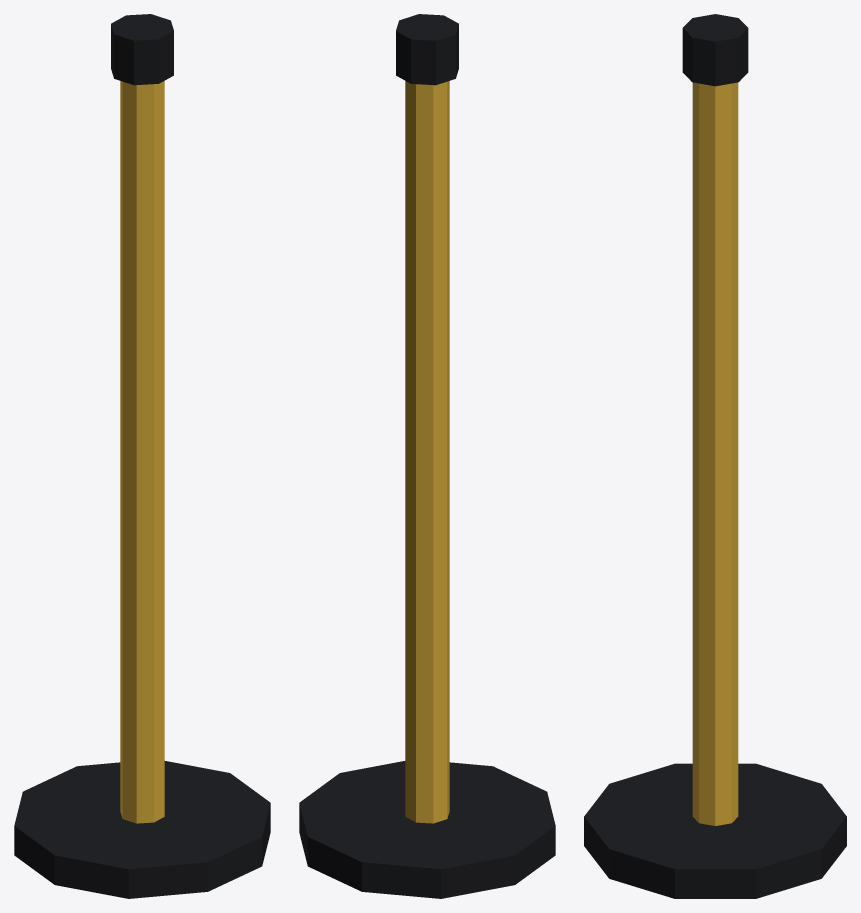
File: tape_post.glb
The picture shows the model from 3 angles, left to right: view 1: azimuth 30°, elevation 25°; view 2: azimuth 150°, elevation 25°; view 3: azimuth 270°, elevation 25°; orthographic projection.
Visible parts, largest first — view 1: tape_post; view 2: tape_post; view 3: tape_post.
Boxes of the visible parts, left/top/right/bottom form: tape_post: left=14, top=14, right=270, bottom=898; tape_post: left=299, top=14, right=555, bottom=898; tape_post: left=584, top=14, right=846, bottom=898.
Bounding box in the file's own units: 0.3043 × 1.1 × 0.32.
